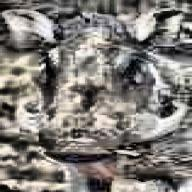boar: (9, 0, 191, 186)
